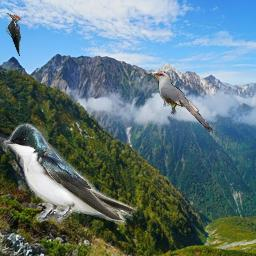Cuckoo: (144, 71, 215, 133)
Swallow: (3, 122, 137, 225)
Woodpecker: (5, 12, 22, 56)
